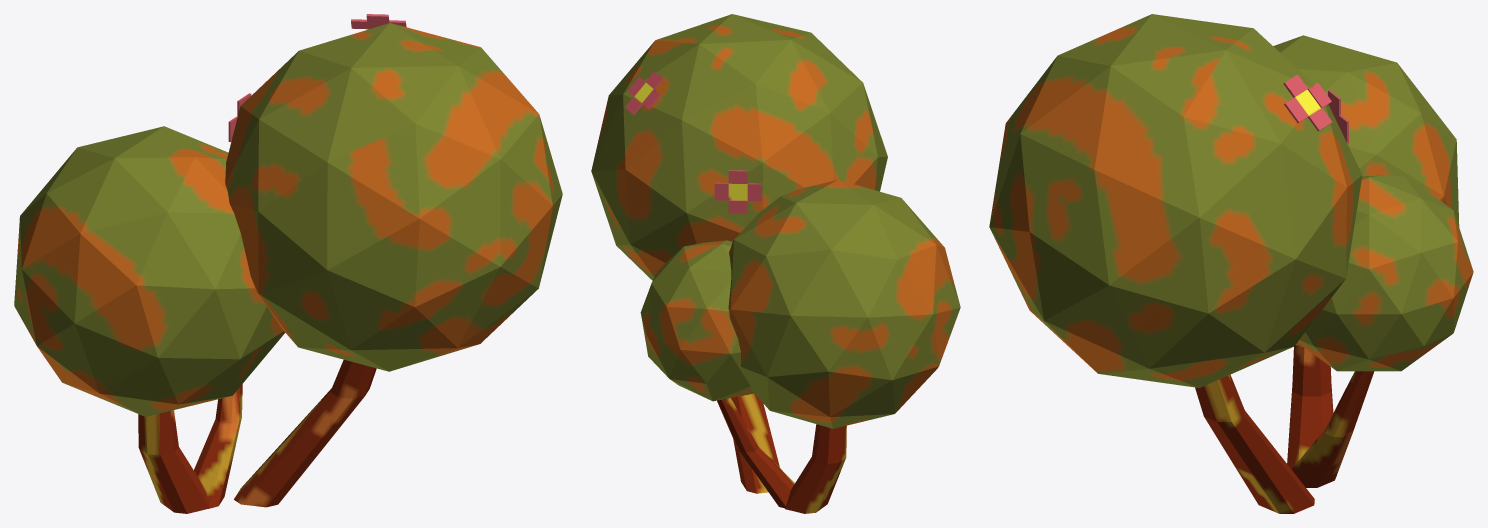
The model's file is Bush1.fbx.
3 renders of one model, left to right at view 1: azimuth 30°, elevation 25°; view 2: azimuth 150°, elevation 25°; view 3: azimuth 270°, elevation 25°, orthographic. The views are drawn at different scales.
Parts seen in each view (by area): view 1: Cube.042; view 2: Cube.042; view 3: Cube.042.
Part boxes in pixels (<box>): Cube.042: <box>14,14,562,513</box>; Cube.042: <box>591,14,960,513</box>; Cube.042: <box>989,14,1473,513</box>.
Bounding box in the file's own units: 655 × 663 × 575.
1 material, 1 textured.
